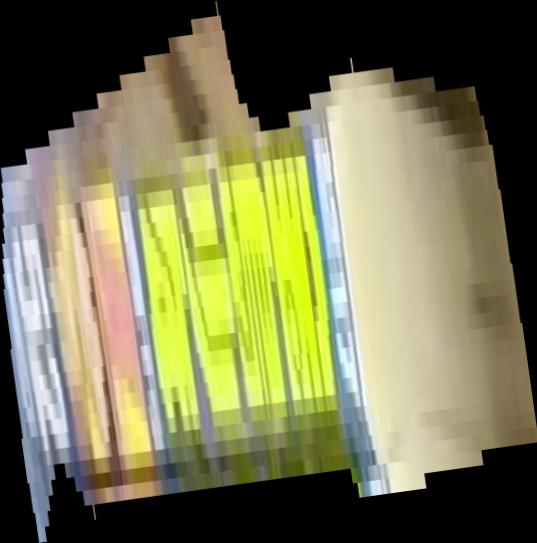flat: (1, 1, 537, 543)
